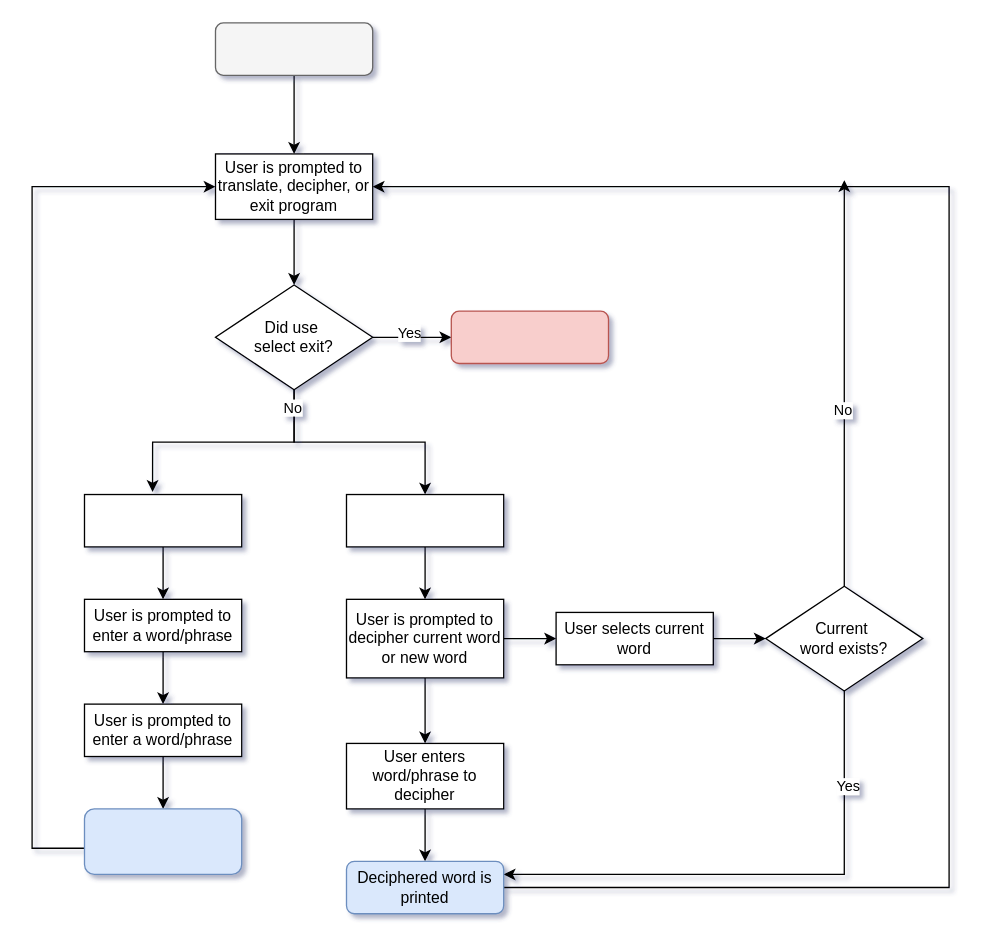
This 990x945 diagram has some shape labels left out. The centre of each missing label's shape, as x and y in pixels:
Program is exited: the point at 529,337
Program is started: the point at 293,48
User selected decipher option: the point at 424,520
User selected translate option: the point at 162,520
Word is translated to morse code and printed: the point at 162,841
